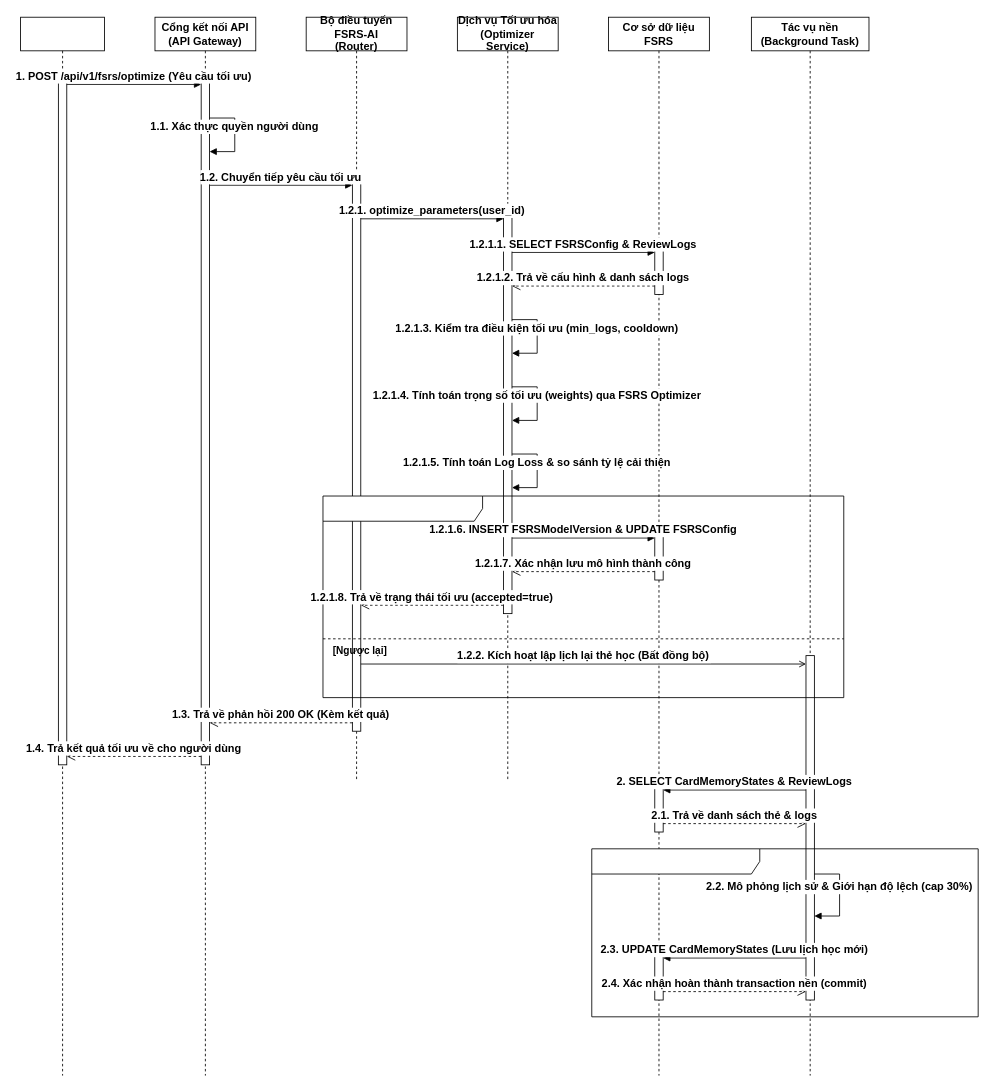
The diagram is 993 pixels wide and 1090 high, and some of its shapes have lost their labels. The shapes that lost their labels are listed below. From the top down, each one's box as (x1, y1, x2, y2) in pixels, then its label:
(20, 16, 105, 1076): Người dùng / Quản trị viên
(322, 495, 844, 698): alt [Nếu cải thiện >= 2%]
(591, 848, 978, 1017): loop [Lặp qua từng thẻ học]
